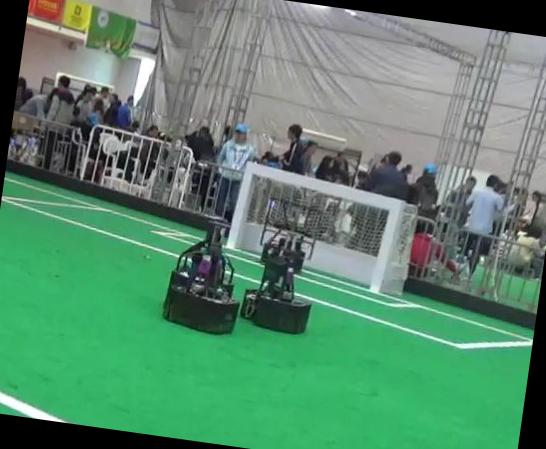goal: (369, 202, 401, 292), (226, 161, 252, 247)
robot: (163, 216, 238, 332), (240, 237, 310, 332), (260, 198, 320, 272)
